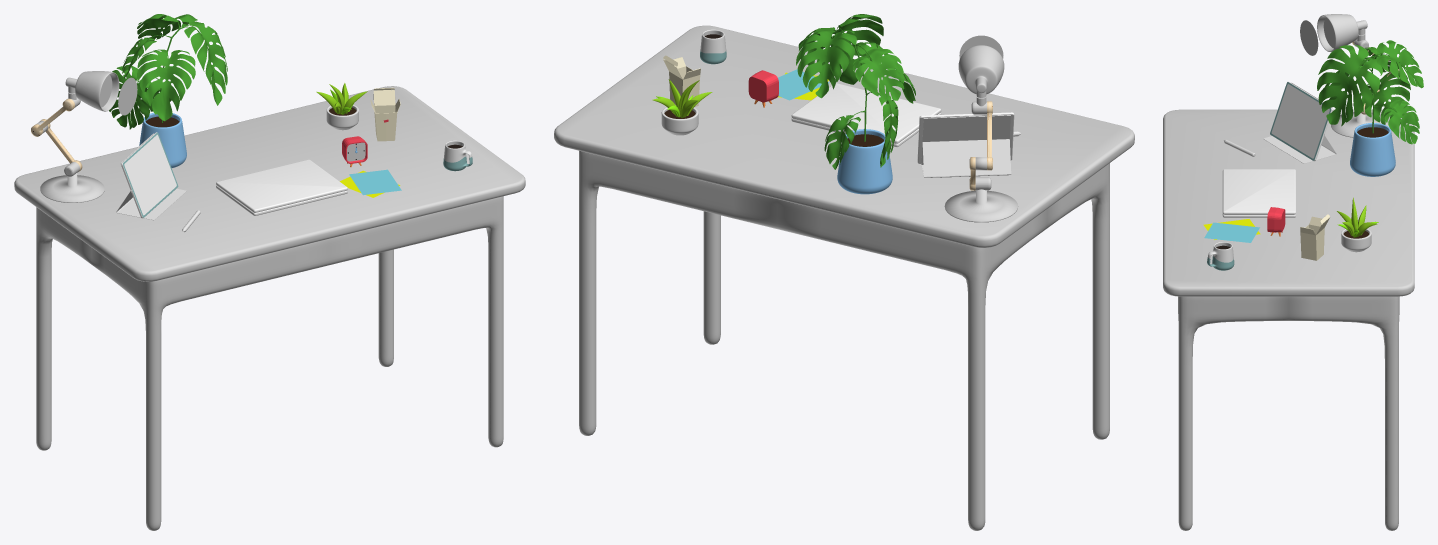
The model's file is table.gltf.
3 views of the same model, side by side, from view 1: azimuth 30°, elevation 25°; view 2: azimuth 150°, elevation 25°; view 3: azimuth 270°, elevation 25° (orthographic). The views are drawn at different scales.
Visible parts, largest first — view 1: tabletop.001, Cube.001, laptopbase.001, leaf4, ipad-screen, leaf2, rod1.001, Vert, cardboard-box, leaf3, lampbase, Plane.005 (+2 smaller); view 2: tabletop.001, Cube.001, Plane, laptopbase.001, leaf1, Vert, leaf5, rod1.001, leaf2, lampbase, leaf6, cardboard-box (+4 smaller); view 3: tabletop.001, Cube.001, leaf2, laptopbase.001, ipad-screen, Vert, leaf1, leaf3, rod1.001, leaf6, cardboard-box, Plane.005 (+6 smaller).
Part boxes in pixels (bbox=[...]): tabletop.001: bbox=[14, 86, 525, 281]; Cube.001: bbox=[36, 196, 503, 530]; laptopbase.001: bbox=[216, 159, 347, 212]; leaf4: bbox=[137, 49, 195, 121]; ipad-screen: bbox=[124, 134, 176, 215]; leaf2: bbox=[181, 21, 227, 105]; rod1.001: bbox=[65, 71, 119, 111]; Vert: bbox=[139, 112, 186, 167]; cardboard-box: bbox=[370, 87, 400, 141]; leaf3: bbox=[109, 66, 153, 129]; lampbase: bbox=[40, 175, 104, 202]; Plane.005: bbox=[349, 169, 401, 195]; tabletop.001: bbox=[554, 25, 1134, 247]; Cube.001: bbox=[579, 151, 1109, 530]; Plane: bbox=[921, 115, 1011, 177]; laptopbase.001: bbox=[791, 83, 941, 143]; leaf1: bbox=[796, 30, 856, 98]; Vert: bbox=[837, 129, 892, 194]; leaf5: bbox=[853, 48, 904, 100]; rod1.001: bbox=[958, 45, 1004, 94]; leaf2: bbox=[798, 14, 883, 84]; lampbase: bbox=[944, 190, 1018, 222]; leaf6: bbox=[824, 115, 860, 169]; cardboard-box: bbox=[663, 55, 700, 106]; tabletop.001: bbox=[1163, 109, 1414, 296]; Cube.001: bbox=[1178, 296, 1399, 530]; leaf2: bbox=[1317, 44, 1382, 126]; laptopbase.001: bbox=[1222, 169, 1295, 214]; ipad-screen: bbox=[1271, 84, 1329, 158]; Vert: bbox=[1350, 123, 1395, 176]; leaf1: bbox=[1376, 40, 1423, 88]; leaf3: bbox=[1360, 71, 1410, 124]; rod1.001: bbox=[1317, 14, 1367, 51]; leaf6: bbox=[1383, 100, 1419, 144]; cardboard-box: bbox=[1300, 214, 1329, 260]; Plane.005: bbox=[1204, 222, 1259, 242].
Bounding box in the file's own units: 1.97 × 1.96 × 1.21.
18 materials, 1 textured.
